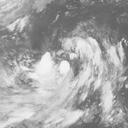cyclone: (22, 38, 108, 113)
